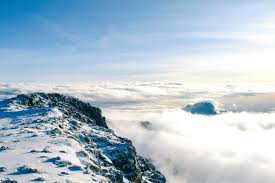mountain: (4, 83, 149, 183)
sky: (1, 1, 271, 92)
